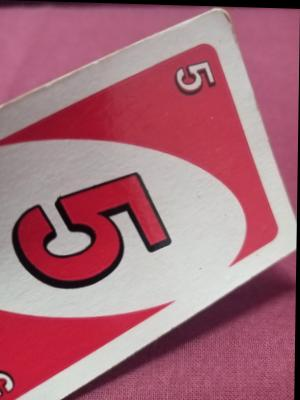num_5: (169, 55, 221, 101), (0, 360, 20, 400)
